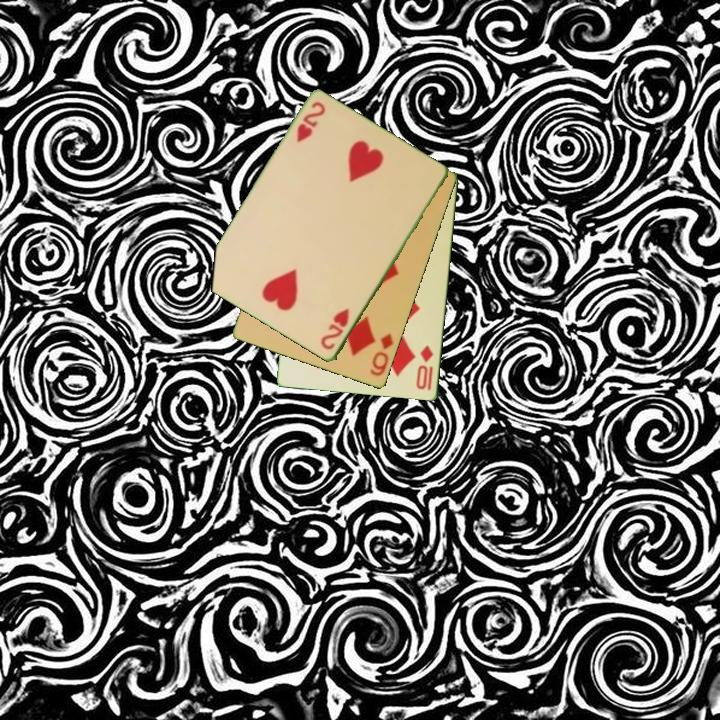10d: (413, 342, 437, 393)
2h: (317, 305, 352, 353), (293, 98, 328, 145)
6d: (367, 330, 397, 379)
